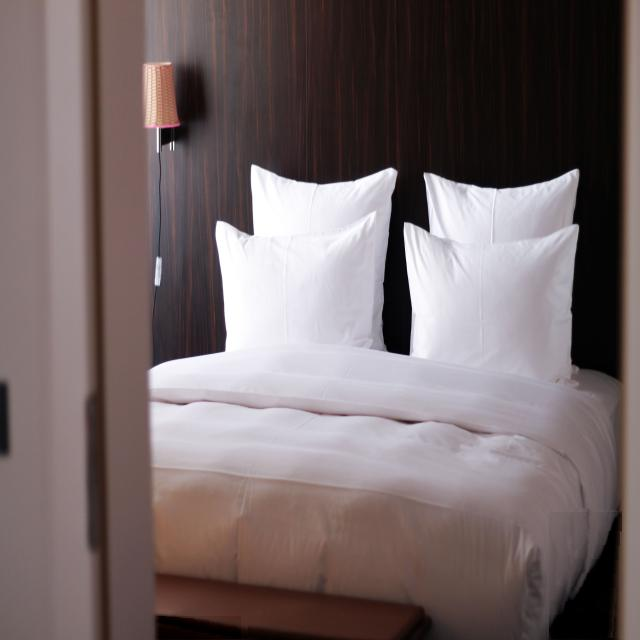floor: (549, 514, 621, 639), (155, 617, 241, 640)
